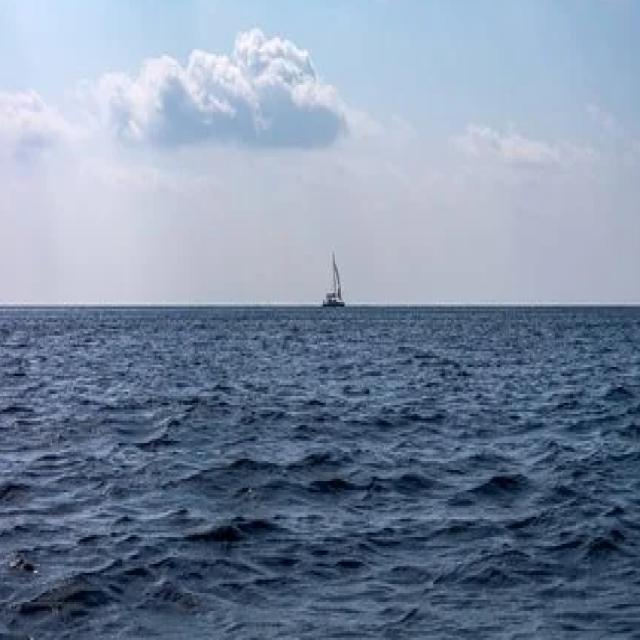fishing boat: (317, 244, 347, 308)
